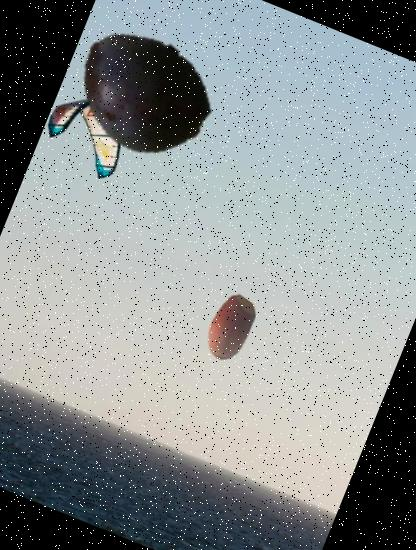Hazelnut: (185, 284, 274, 374)
Plum: (52, 2, 233, 183)
